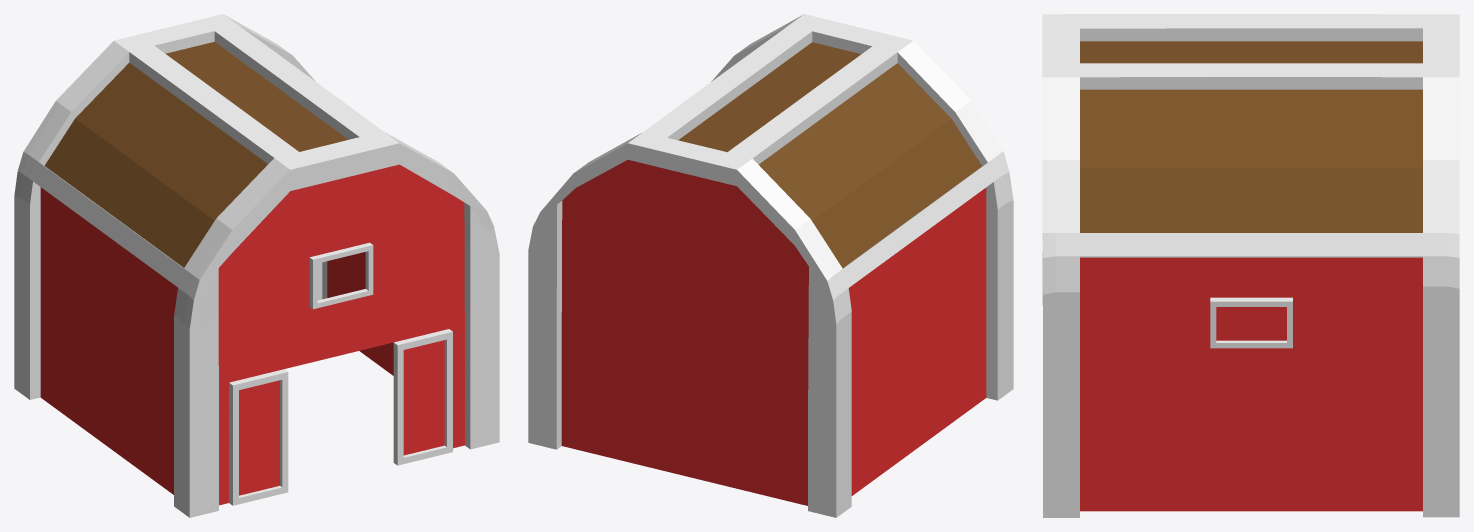
The model's file is Barn.fbx.
3 views of the same model, side by side, from view 1: azimuth 30°, elevation 25°; view 2: azimuth 150°, elevation 25°; view 3: azimuth 270°, elevation 25° (orthographic). The views are drawn at different scales.
Parts seen in each view (by area): view 1: Barn; view 2: Barn; view 3: Barn.
Part boxes in pixels (bbox=[...]): Barn: bbox=[14, 14, 499, 517]; Barn: bbox=[528, 14, 1013, 517]; Barn: bbox=[1042, 14, 1459, 517].
Size of the model in its own units: 323 by 323 by 319.
